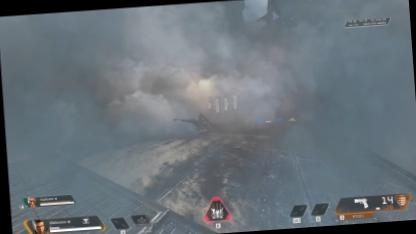Target: (190, 112, 212, 137)
